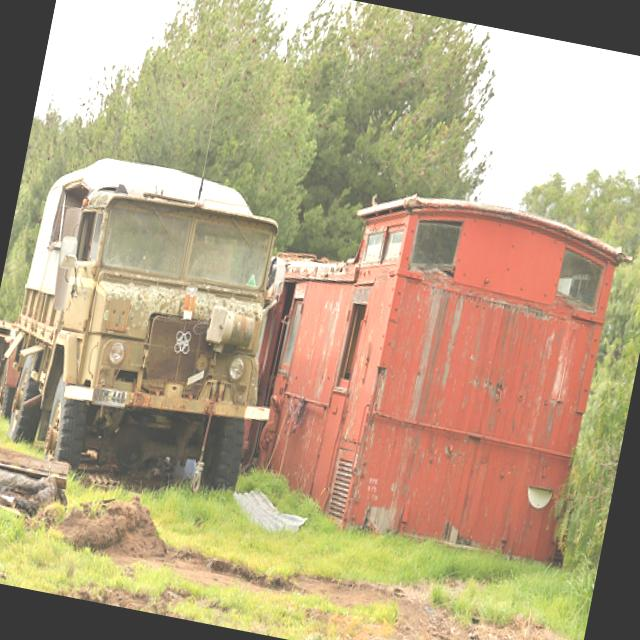Vehicle: (0, 138, 301, 506)
